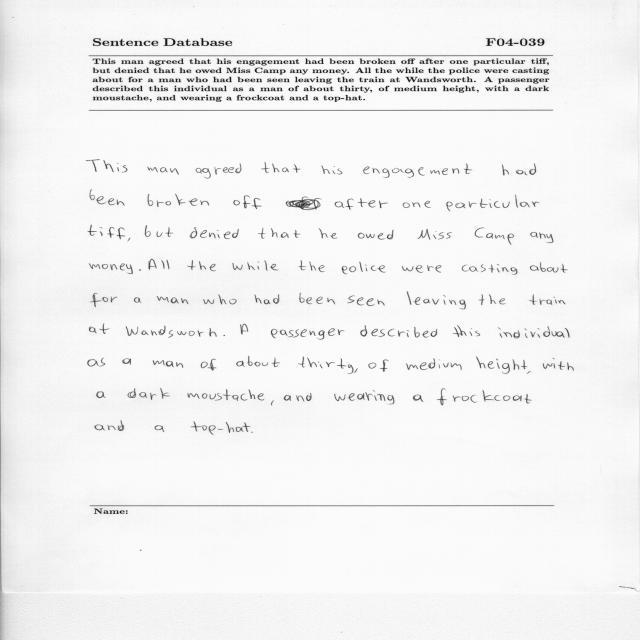word: (363, 163, 472, 178), (437, 389, 532, 406), (447, 195, 540, 211), (286, 197, 388, 210), (126, 326, 217, 338), (298, 357, 358, 374), (407, 292, 466, 309), (476, 356, 530, 374), (360, 326, 437, 338), (188, 389, 264, 401), (271, 328, 344, 340), (498, 327, 570, 339), (334, 390, 395, 404), (191, 421, 250, 435), (148, 194, 209, 207), (196, 163, 241, 179), (406, 359, 462, 371), (475, 228, 514, 245), (462, 264, 517, 275), (90, 189, 125, 206), (190, 227, 239, 239), (86, 160, 128, 173), (342, 262, 386, 274), (89, 225, 126, 239), (127, 388, 170, 400), (89, 263, 133, 274), (236, 356, 280, 367), (258, 228, 300, 239), (233, 261, 278, 271), (262, 162, 301, 173), (530, 262, 568, 273), (502, 164, 536, 176), (233, 195, 262, 209), (300, 293, 336, 304), (529, 294, 565, 305), (418, 229, 453, 240), (347, 296, 385, 306), (91, 293, 117, 307), (358, 230, 394, 240), (203, 295, 237, 305), (145, 225, 173, 237), (453, 325, 480, 337), (402, 265, 442, 273), (187, 260, 216, 271), (95, 420, 124, 431), (299, 260, 325, 272), (479, 294, 506, 305), (552, 358, 574, 371), (530, 232, 554, 243), (147, 167, 179, 175), (157, 296, 189, 304), (284, 393, 312, 402), (255, 294, 280, 304), (153, 360, 183, 368), (149, 259, 170, 270), (90, 324, 110, 334), (403, 201, 431, 208), (322, 166, 343, 175), (319, 229, 337, 239), (201, 359, 216, 370), (88, 358, 105, 367), (380, 360, 389, 372), (240, 324, 248, 334), (413, 395, 423, 402), (155, 425, 165, 432), (122, 358, 131, 365), (97, 392, 106, 399), (543, 363, 552, 369), (369, 363, 377, 369), (134, 297, 141, 303), (271, 401, 274, 406), (128, 238, 130, 242), (139, 269, 141, 271), (223, 335, 225, 336), (251, 432, 253, 432)
